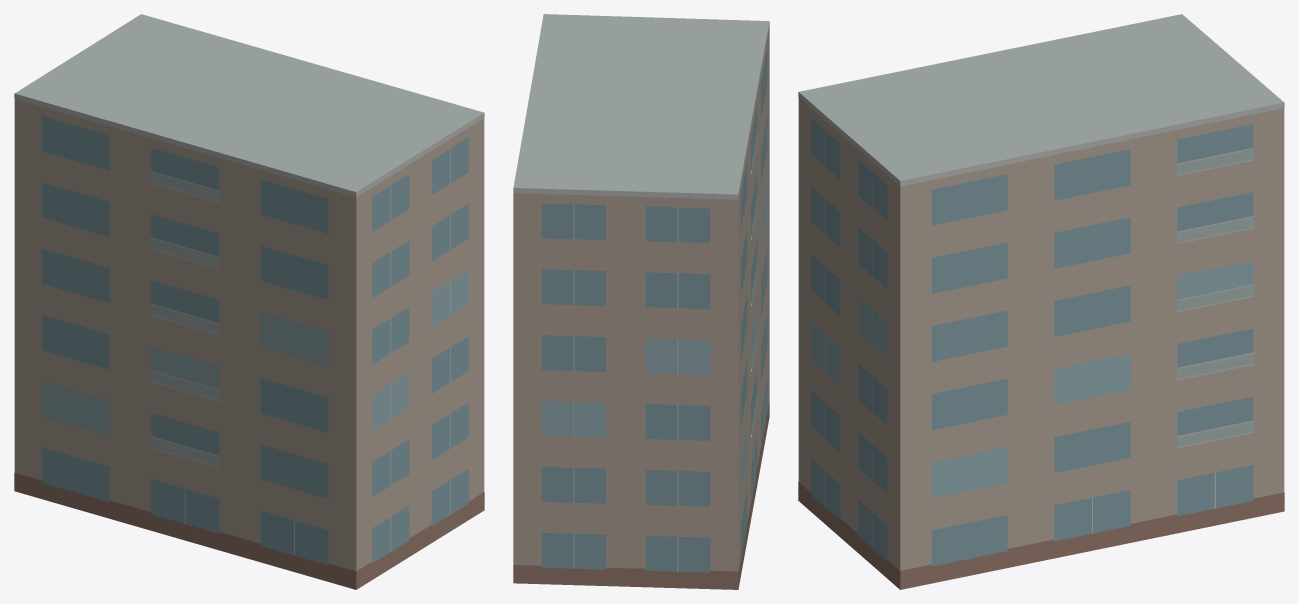
File: survey-upis-32962142.glb
3 renders of one model, left to right at view 1: azimuth 30°, elevation 25°; view 2: azimuth 150°, elevation 25°; view 3: azimuth 270°, elevation 25°, orthographic. The views are drawn at different scales.
Visible parts, largest first — view 1: survey-upis-32962142.tmp; view 2: survey-upis-32962142.tmp; view 3: survey-upis-32962142.tmp.
Part boxes in pixels (bbox=[...]): survey-upis-32962142.tmp: bbox=[14, 14, 484, 589]; survey-upis-32962142.tmp: bbox=[513, 14, 769, 589]; survey-upis-32962142.tmp: bbox=[798, 14, 1284, 589].
Size of the model in its own units: 16.04 by 18.3 by 19.72.
